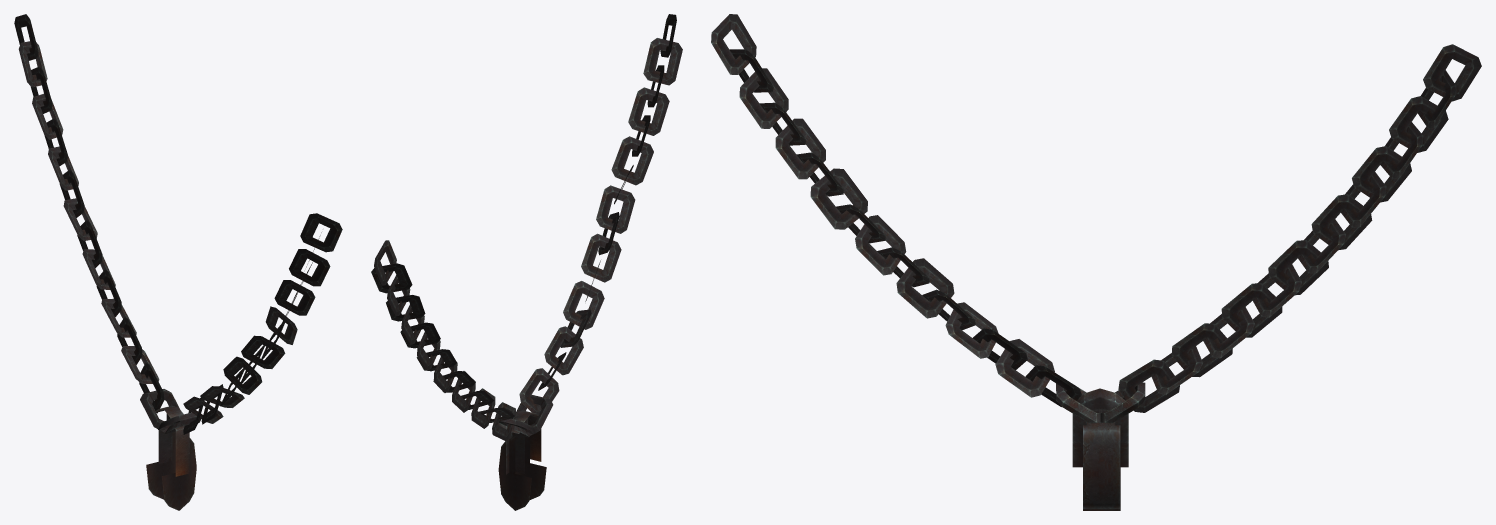
The model's file is building_underground_liantiao.FBX.
3 views of the same model, side by side, from view 1: azimuth 30°, elevation 25°; view 2: azimuth 150°, elevation 25°; view 3: azimuth 270°, elevation 25° (orthographic). The views are drawn at different scales.
Parts seen in each view (by area): view 1: building_underground_liantiao; view 2: building_underground_liantiao; view 3: building_underground_liantiao.
Boxes of the visible parts, x1,y1,x2,y2 form: building_underground_liantiao: (14,14,342,510); building_underground_liantiao: (371,14,682,510); building_underground_liantiao: (711,14,1481,510).
Size of the model in its own units: 2.87 by 31.7 by 45.
